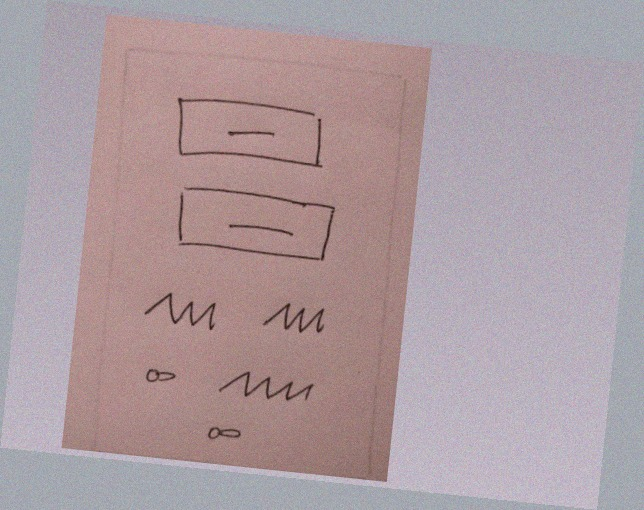button: (162, 174, 349, 274), (165, 89, 346, 181)
switch: (199, 419, 252, 451), (139, 361, 187, 393)
text: (212, 360, 324, 413), (136, 284, 231, 342), (257, 294, 341, 341)
